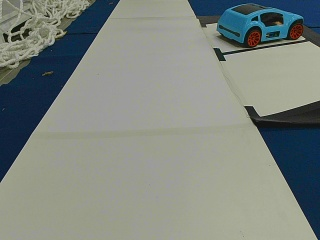car: (216, 5, 304, 46)
